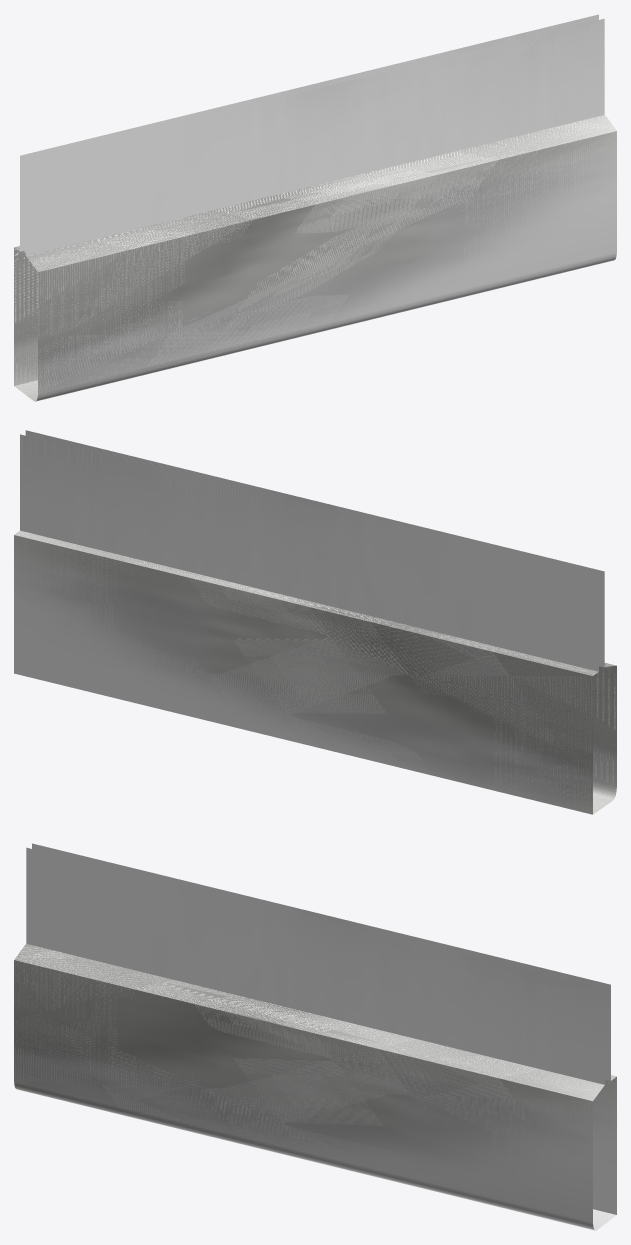
File: original-31.obj
3 renders of one model, top to bottom at view 1: azimuth 30°, elevation 25°; view 2: azimuth 150°, elevation 25°; view 3: azimuth 330°, elevation 25°, orthographic.
Parts seen in each view (by area): view 1: LT_21_BC1/LT_21_BC/mesh25/mesh25-geometry#mesh25-geometry; view 2: LT_21_BC1/LT_21_BC/mesh25/mesh25-geometry#mesh25-geometry; view 3: LT_21_BC1/LT_21_BC/mesh25/mesh25-geometry#mesh25-geometry.
Boxes of the visible parts, x1,y1,x2,y2 form: LT_21_BC1/LT_21_BC/mesh25/mesh25-geometry#mesh25-geometry: (14,14,616,401); LT_21_BC1/LT_21_BC/mesh25/mesh25-geometry#mesh25-geometry: (14,430,616,814); LT_21_BC1/LT_21_BC/mesh25/mesh25-geometry#mesh25-geometry: (14,843,616,1230).
Size of the model in its own units: 0.3763 by 0.1462 by 0.0271.
